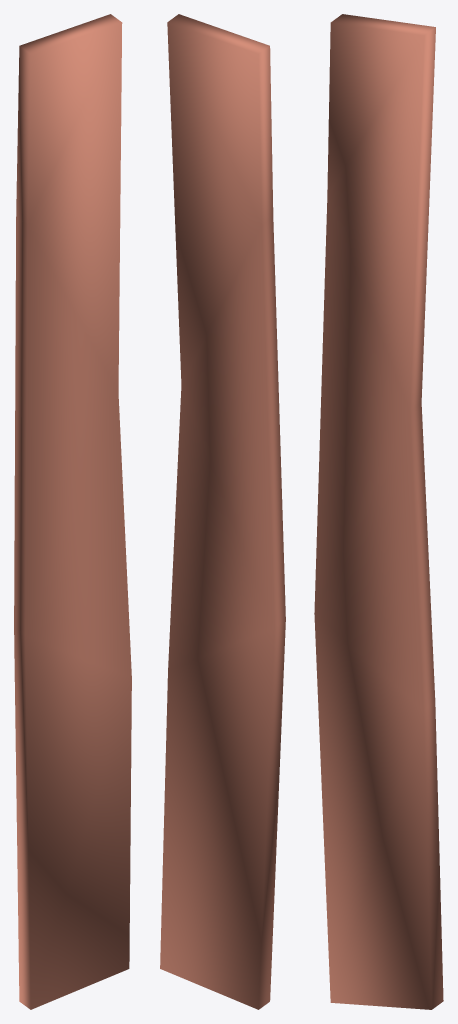
Rendered from wood_part_a.fbx.
3 renders of one model, left to right at view 1: azimuth 30°, elevation 25°; view 2: azimuth 150°, elevation 25°; view 3: azimuth 330°, elevation 25°, orthographic. The views are drawn at different scales.
Visible parts, largest first — view 1: Cube.151; view 2: Cube.151; view 3: Cube.151.
Boxes of the visible parts, x1=… form: Cube.151: x1=14, y1=14, x2=131, y2=1009; Cube.151: x1=160, y1=14, x2=285, y2=1009; Cube.151: x1=314, y1=14, x2=443, y2=1009.
Size of the model in its own units: 0.4601 by 3.89 by 0.1219.
